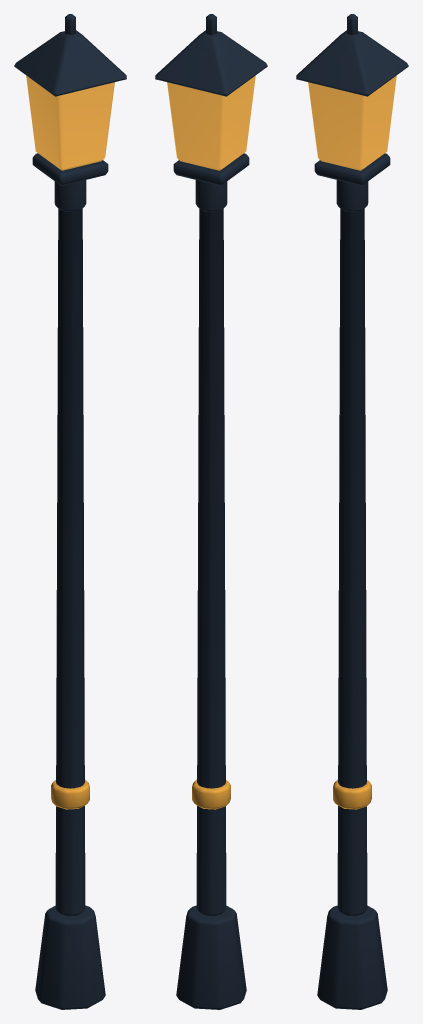
File: lamp_post.glb
3 views of the same model, side by side, from view 1: azimuth 30°, elevation 25°; view 2: azimuth 150°, elevation 25°; view 3: azimuth 330°, elevation 25° (orthographic).
Parts seen in each view (by area): view 1: Body, Light; view 2: Body, Light; view 3: Body, Light.
Part boxes in pixels (left/top/right/bottom): Body: left=14, top=14, right=126, bottom=1009; Light: left=26, top=75, right=114, bottom=170; Body: left=155, top=14, right=267, bottom=1009; Light: left=167, top=75, right=255, bottom=170; Body: left=296, top=14, right=408, bottom=1009; Light: left=308, top=75, right=396, bottom=170.
Size of the model in its own units: 0.4554 by 5.78 by 0.4554.
2 materials, 2 textured.
